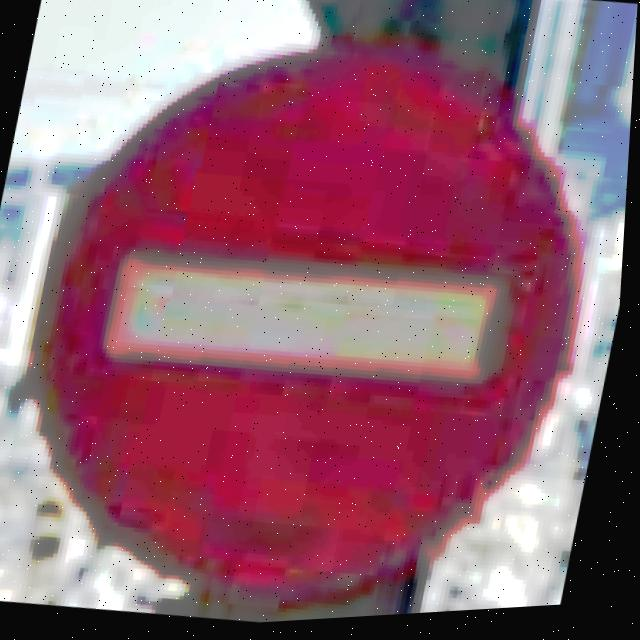noentry: (41, 48, 583, 604)
